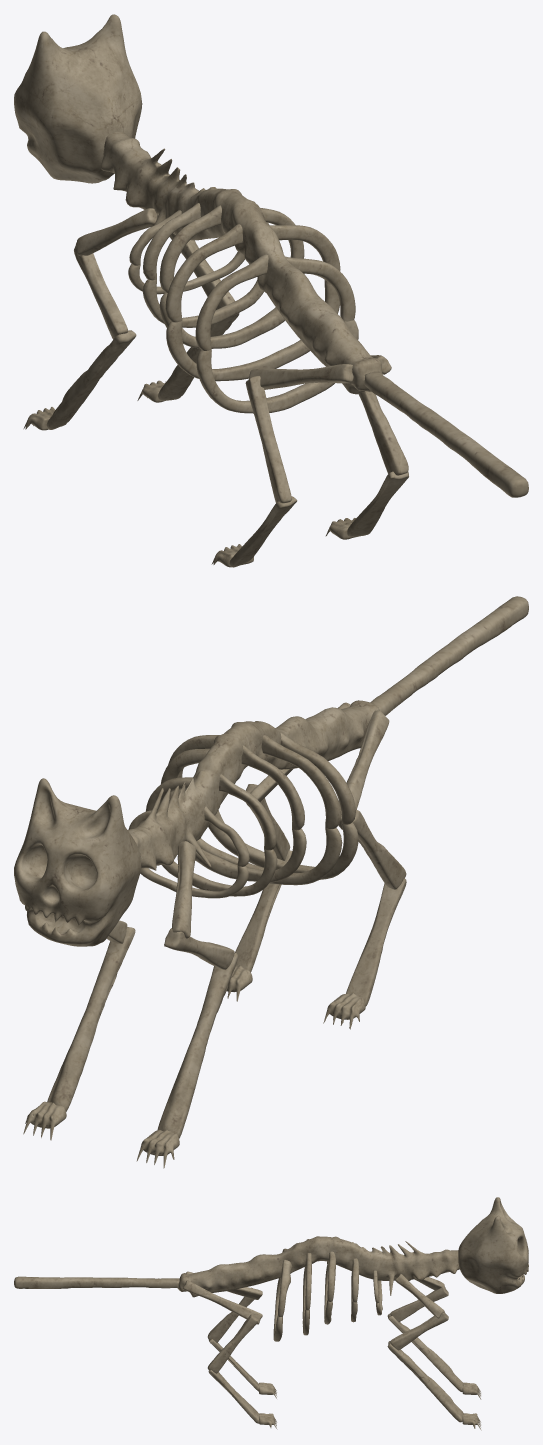
File: Cat Unwrap TEXT.glb
The picture shows the model from 3 angles, top to bottom: view 1: azimuth 30°, elevation 25°; view 2: azimuth 150°, elevation 25°; view 3: azimuth 270°, elevation 25°; orthographic projection. The views are drawn at different scales.
Parts seen in each view (by area): view 1: Retopo_spine, Retopo_head.001, Retopo_ribs 4, Retopo_ribs 5, Retopo_tail, Retopo_ribs 3, Retopo_ribs 2, Retopo_front legs.002, Retopo_back legs.001, Retopo_back legs.002, Retopo_back legs.004, Retopo_ribs 1 (+6 smaller); view 2: Retopo_head.001, Retopo_spine, Retopo_ribs 4, Retopo_tail, Retopo_ribs 3, Retopo_front legs.005, Retopo_front legs.002, Retopo_ribs 5, Retopo_ribs 2, Retopo_back legs, Retopo_ribs 1, Retopo_back legs.003 (+7 smaller); view 3: Retopo_spine, Retopo_head.001, Retopo_tail, Retopo_front legs.005, Retopo_ribs 5, Retopo_front legs.002, Retopo_back legs.005, Retopo_back legs.004, Retopo_front legs.004, Retopo_ribs 3, Retopo_ribs 4, Retopo_front legs.001 (+7 smaller).
Part boxes in pixels (x1=…): Retopo_spine: x1=101, y1=131, x2=382, y2=394; Retopo_head.001: x1=14, y1=14, x2=142, y2=183; Retopo_ribs 4: x1=165, y1=224, x2=340, y2=381; Retopo_ribs 5: x1=195, y1=254, x2=358, y2=413; Retopo_tail: x1=364, y1=371, x2=528, y2=497; Retopo_ribs 3: x1=159, y1=205, x2=304, y2=348; Retopo_ribs 2: x1=143, y1=203, x2=269, y2=327; Retopo_front legs.002: x1=46, y1=330, x2=136, y2=429; Retopo_back legs.001: x1=245, y1=376, x2=291, y2=503; Retopo_back legs.002: x1=249, y1=364, x2=353, y2=389; Retopo_back legs.004: x1=358, y1=391, x2=408, y2=475; Retopo_ribs 1: x1=128, y1=210, x2=244, y2=294; Retopo_head.001: x1=14, y1=778, x2=141, y2=946; Retopo_spine: x1=127, y1=700, x2=379, y2=870; Retopo_ribs 4: x1=168, y1=734, x2=342, y2=885; Retopo_tail: x1=370, y1=596, x2=528, y2=715; Retopo_ribs 3: x1=160, y1=745, x2=306, y2=882; Retopo_front legs.005: x1=47, y1=927, x2=135, y2=1111; Retopo_front legs.002: x1=157, y1=953, x2=238, y2=1138; Retopo_ribs 5: x1=208, y1=732, x2=358, y2=879; Retopo_ribs 2: x1=145, y1=774, x2=277, y2=896; Retopo_back legs: x1=346, y1=878, x2=406, y2=1006; Retopo_ribs 1: x1=128, y1=806, x2=249, y2=898; Retopo_back legs.003: x1=235, y1=850, x2=292, y2=972; Retopo_spine: x1=177, y1=1236, x2=459, y2=1297; Retopo_head.001: x1=458, y1=1197, x2=528, y2=1293; Retopo_tail: x1=14, y1=1276, x2=179, y2=1288; Retopo_front legs.005: x1=387, y1=1341, x2=463, y2=1422; Retopo_ribs 5: x1=273, y1=1248, x2=292, y2=1341; Retopo_front legs.002: x1=387, y1=1313, x2=463, y2=1391; Retopo_back legs.005: x1=183, y1=1280, x2=262, y2=1324; Retopo_back legs.004: x1=207, y1=1314, x2=258, y2=1373; Retopo_front legs.004: x1=390, y1=1312, x2=448, y2=1350; Retopo_ribs 3: x1=324, y1=1251, x2=336, y2=1324; Retopo_ribs 4: x1=302, y1=1239, x2=311, y2=1335; Retopo_front legs.001: x1=390, y1=1286, x2=448, y2=1321.
Size of the model in its own units: 2.57 by 5.33 by 12.12.
1 material, 1 textured.
